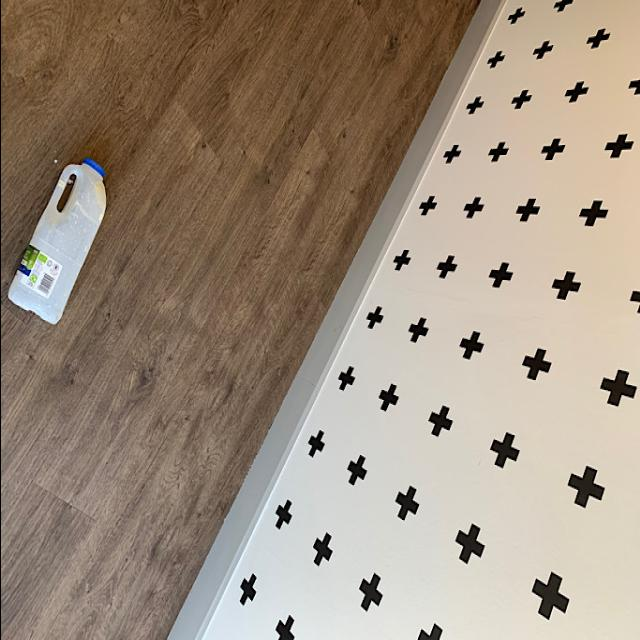HDPEM: (5, 156, 109, 326)
